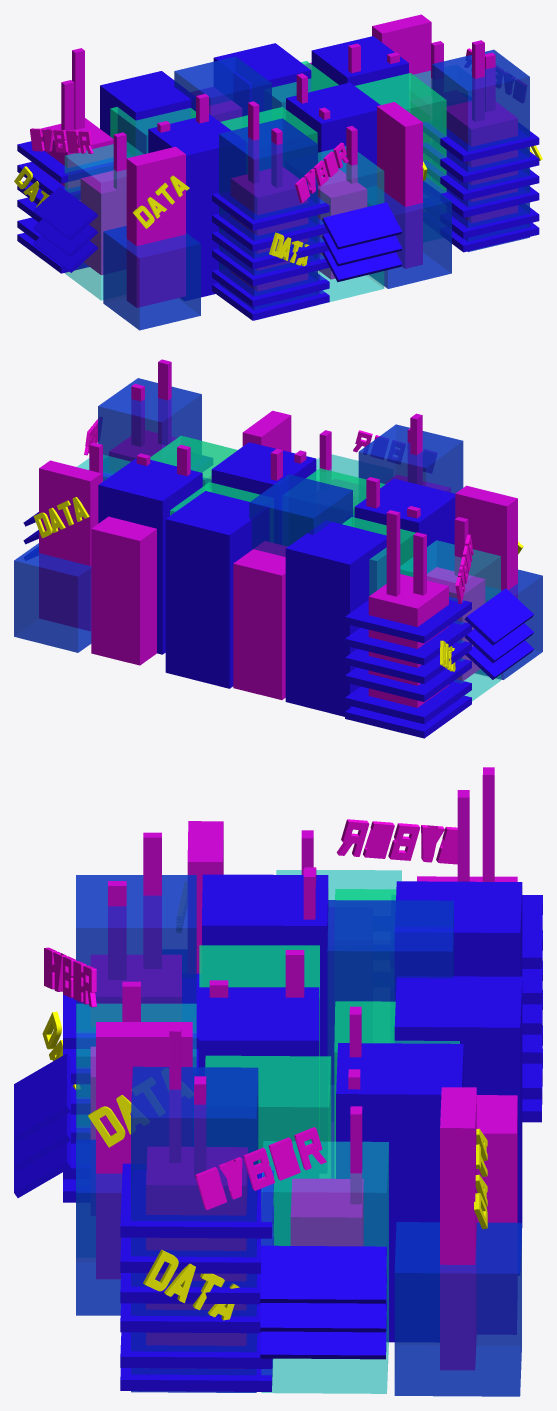
File: CyberpunkCity.fbx
3 renders of one model, top to bottom at view 1: azimuth 30°, elevation 25°; view 2: azimuth 150°, elevation 25°; view 3: azimuth 270°, elevation 25°, orthographic. The views are drawn at different scales.
Visible parts, largest first — view 1: pasted__pasted__pCube1 (×7), pasted__pasted__pasted__pasted__pasted__pCube1 (×9), pasted__pasted__pasted__pCube1 (×7), pasted__pasted__pasted__pasted__pCube1 (×8), pasted__pCube1 (×3), pasted__pasted__pasted__pasted__pasted__pasted__pCube1 (×6), pasted__pasted__pasted__pasted__pasted__pasted__pasted__pCub (×7), pasted__pasted__pasted__pasted__pasted__pasted__pasted__past (×6), pCube1, pasted__pasted__typeMesh1, typeMesh1, pasted__pasted__pasted__pasted__typeMesh1 (+2 smaller); view 2: pasted__pasted__pasted__pasted__pasted__pCube1 (×7), pasted__pasted__pasted__pasted__pCube1 (×7), pasted__pasted__pasted__pCube1 (×7), pasted__pasted__pasted__pasted__pasted__pasted__pCube1 (×4), pasted__pasted__pCube1 (×4), pasted__pasted__pasted__pasted__pasted__pasted__pasted__past (×5), pasted__pCube1 (×2), pasted__pasted__pasted__pasted__pasted__pasted__pasted__pCub (×4), pasted__pasted__pasted__typeMesh1, pasted__pasted__typeMesh1, pCube1; view 3: pasted__pasted__pasted__pCube1 (×9), pasted__pasted__pCube1 (×7), pasted__pasted__pasted__pasted__pasted__pCube1 (×9), pasted__pCube1 (×4), pasted__pasted__pasted__pasted__pCube1 (×4), pasted__pasted__pasted__pasted__pasted__pasted__pCube1 (×6), pasted__pasted__pasted__pasted__pasted__pasted__pasted__pCub (×5), pasted__pasted__pasted__pasted__pasted__pasted__pasted__past (×5), pasted__pasted__typeMesh1 (×3), pCube1, pasted__typeMesh1, typeMesh1 (+1 smaller).
Boxes of the visible parts, x1,y1,x2,y2 form: pasted__pasted__pCube1 (×7): (64,49,529,300); pasted__pasted__pasted__pasted__pasted__pCube1 (×9): (33,43,539,307); pasted__pasted__pasted__pCube1 (×7): (33,56,446,272); pasted__pasted__pasted__pasted__pCube1 (×8): (33,14,431,330); pasted__pCube1 (×3): (219,118,402,320); pasted__pasted__pasted__pasted__pasted__pasted__pCube1 (×6): (100,52,539,286); pasted__pasted__pasted__pasted__pasted__pasted__pasted__pCub (×7): (17,40,539,307); pasted__pasted__pasted__pasted__pasted__pasted__pasted__past (×6): (17,48,539,320); pCube1: (318,146,384,301); pasted__pasted__typeMesh1: (30,128,93,153); typeMesh1: (295,142,348,202); pasted__pasted__pasted__pasted__typeMesh1: (132,175,189,228); pasted__pasted__pasted__pasted__pasted__pCube1 (×7): (91,430,533,688); pasted__pasted__pasted__pasted__pCube1 (×7): (39,458,542,699); pasted__pasted__pasted__pCube1 (×7): (14,410,533,707); pasted__pasted__pasted__pasted__pasted__pasted__pCube1 (×4): (131,384,471,716); pasted__pasted__pCube1 (×4): (98,378,500,701); pasted__pasted__pasted__pasted__pasted__pasted__pasted__past (×5): (345,510,471,738); pasted__pCube1 (×2): (77,424,463,502); pasted__pasted__pasted__pasted__pasted__pasted__pasted__pCub (×4): (158,359,471,665); pasted__pasted__pasted__typeMesh1: (33,497,89,538); pasted__pasted__typeMesh1: (455,534,473,603); pCube1: (316,454,358,477); pasted__pasted__pasted__pCube1 (×9): (14,900,521,1396); pasted__pasted__pCube1 (×7): (14,870,401,1392); pasted__pasted__pasted__pasted__pasted__pCube1 (×9): (63,821,522,1304); pasted__pCube1 (×4): (14,875,388,1393); pasted__pasted__pasted__pasted__pCube1 (×4): (260,889,476,1369); pasted__pasted__pasted__pasted__pasted__pasted__pCube1 (×6): (63,832,522,1273); pasted__pasted__pasted__pasted__pasted__pasted__pasted__pCub (×5): (120,790,542,1333); pasted__pasted__pasted__pasted__pasted__pasted__pasted__past (×5): (120,767,542,1391); pasted__pasted__typeMesh1 (×3): (88,819,457,1320); pCube1: (76,1003,196,1139); pasted__typeMesh1: (195,1127,326,1209); typeMesh1: (44,947,96,1007).
Bounding box in the file's own units: 22.48 × 9.33 × 13.38.
